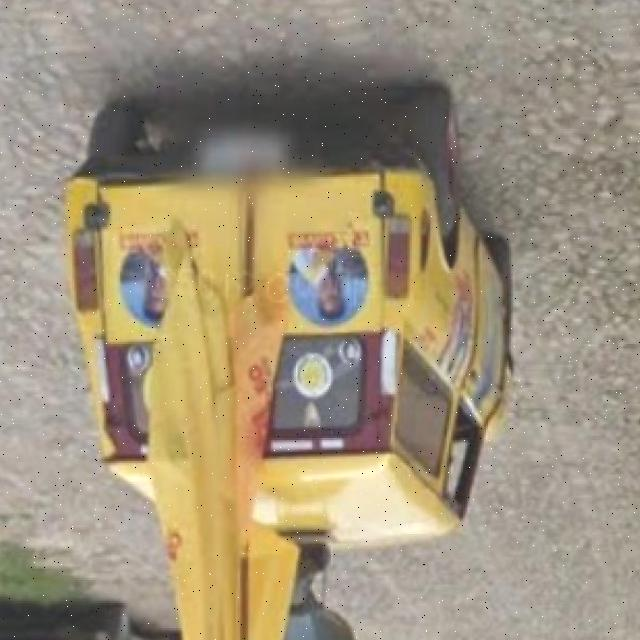car: (71, 79, 524, 530)
